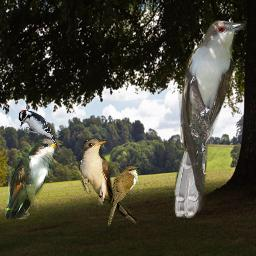Cuckoo: (172, 18, 247, 218), (78, 138, 138, 225), (5, 138, 63, 219), (107, 166, 139, 226)
Woodpecker: (18, 109, 59, 148)
